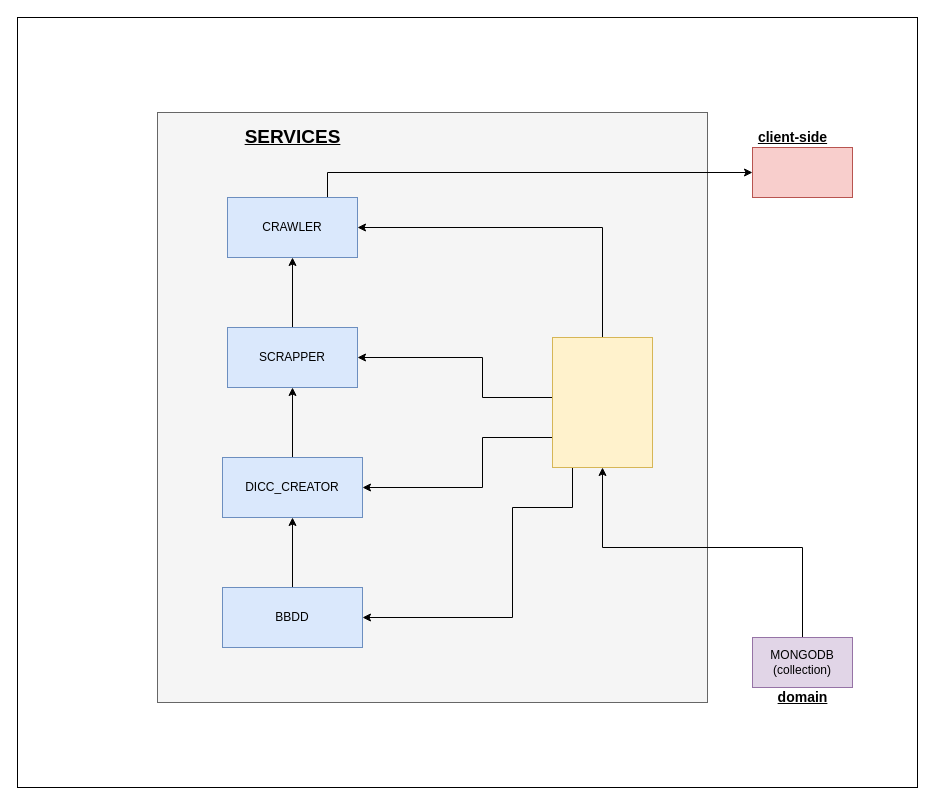
Image size: 935x805. Some labels were removed from this diagram. The shapes that lost their labels are listed below. From the top down, each one's centre as x and y in pixels, then its label:
At [802,172]: "HTML".
At [602,402]: "APP".
